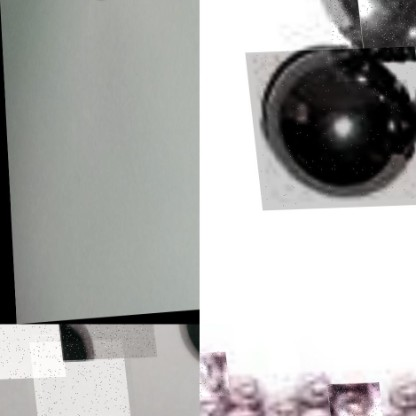ironball: (243, 48, 415, 211), (23, 341, 124, 415), (326, 0, 415, 83), (47, 324, 151, 361), (0, 324, 59, 380), (324, 384, 380, 415), (199, 353, 227, 398)
